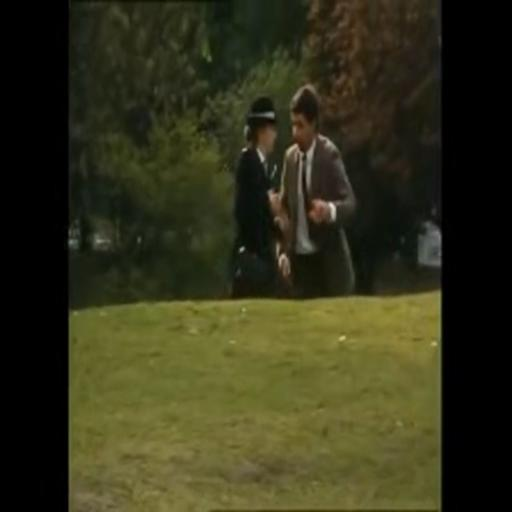nao-violencia: (219, 66, 366, 303)
